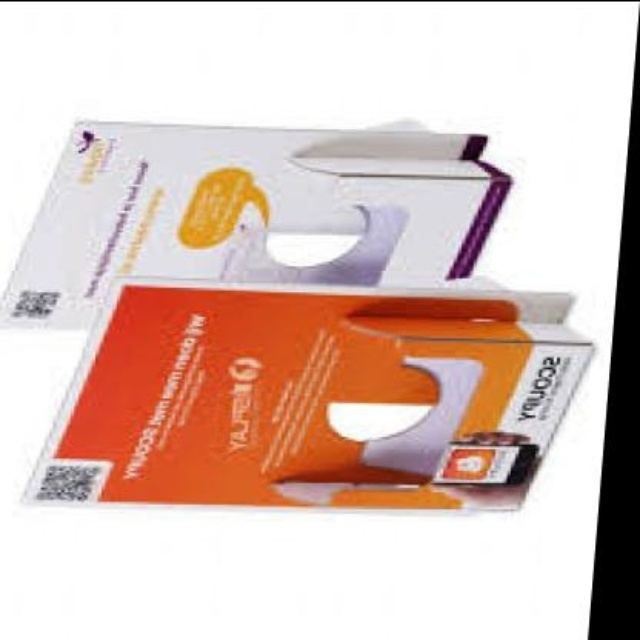trash: (31, 285, 591, 508), (0, 122, 511, 322)
